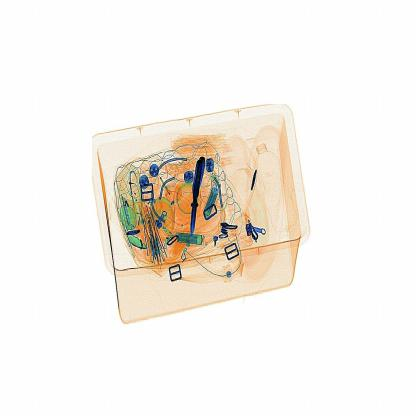gun: (183, 153, 211, 240)
